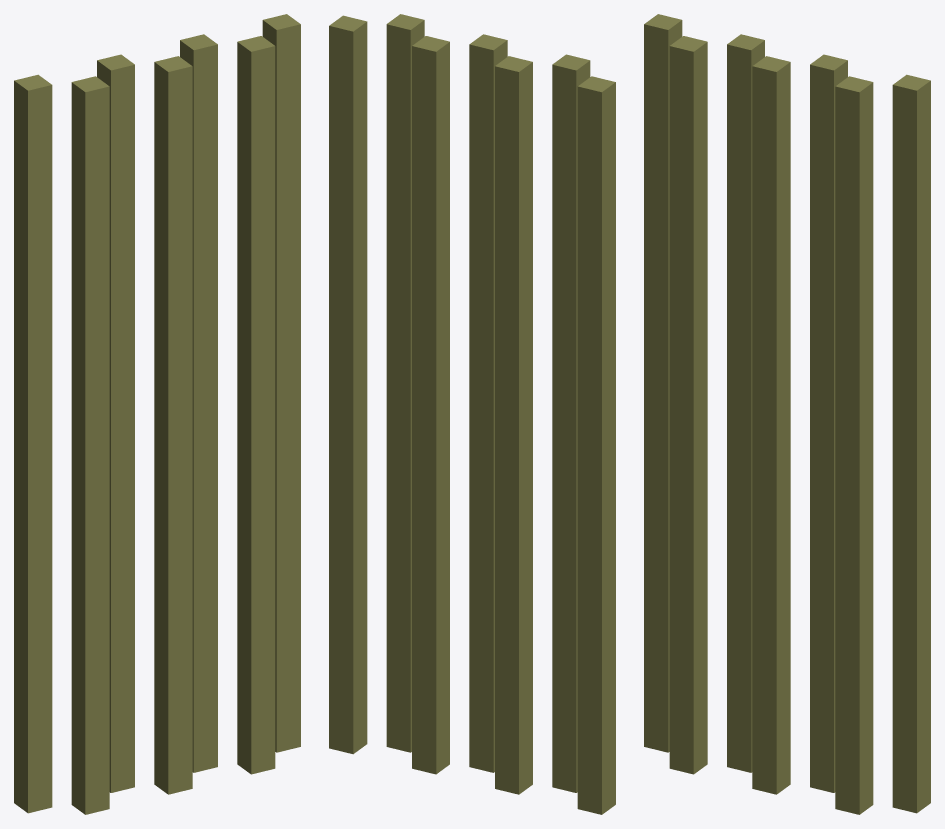
File: lake-trostnik-shallows-1.glb
The picture shows the model from 3 angles, left to right: view 1: azimuth 30°, elevation 25°; view 2: azimuth 150°, elevation 25°; view 3: azimuth 330°, elevation 25°; orthographic projection.
Parts seen in each view (by area): view 1: reeds-0, reeds-1, reeds-3, reeds-5, reeds-6, reeds-2, reeds-4; view 2: reeds-0, reeds-6, reeds-2, reeds-4, reeds-5, reeds-1, reeds-3; view 3: reeds-6, reeds-1, reeds-3, reeds-5, reeds-0, reeds-2, reeds-4.
Part boxes in pixels (x1,y1,x2,y2): reeds-0: [14, 74, 52, 813]; reeds-1: [71, 76, 109, 814]; reeds-3: [154, 56, 192, 794]; reeds-5: [237, 36, 275, 774]; reeds-6: [262, 14, 300, 752]; reeds-2: [97, 54, 134, 792]; reeds-4: [180, 34, 217, 772]; reeds-0: [577, 76, 615, 814]; reeds-6: [329, 15, 367, 754]; reeds-2: [495, 56, 532, 794]; reeds-4: [412, 36, 449, 774]; reeds-5: [386, 14, 424, 752]; reeds-1: [552, 54, 590, 792]; reeds-3: [469, 34, 507, 772]; reeds-6: [892, 74, 930, 813]; reeds-1: [669, 36, 707, 774]; reeds-3: [752, 56, 790, 794]; reeds-5: [835, 76, 873, 814]; reeds-0: [644, 14, 682, 752]; reeds-2: [727, 34, 764, 772]; reeds-4: [810, 54, 847, 792].
Bounding box in the file's own units: 0.79 × 2 × 0.15.
